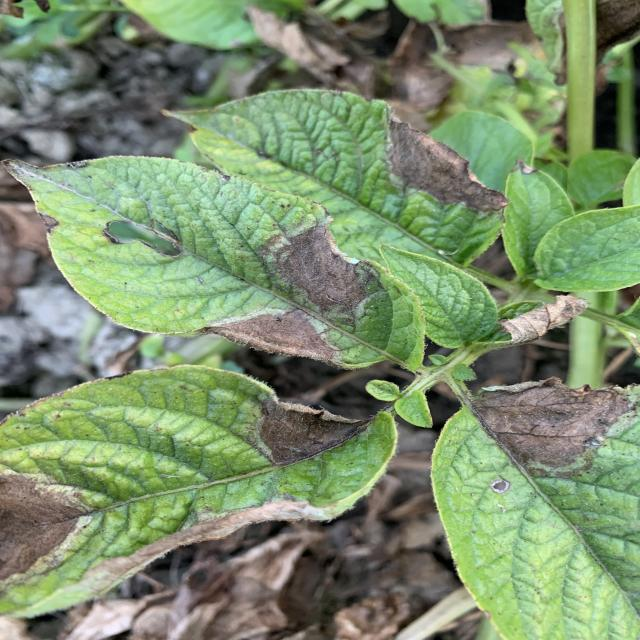lateblight: (207, 222, 382, 364), (472, 379, 638, 478), (0, 465, 93, 590), (388, 116, 508, 211), (258, 399, 367, 466)
